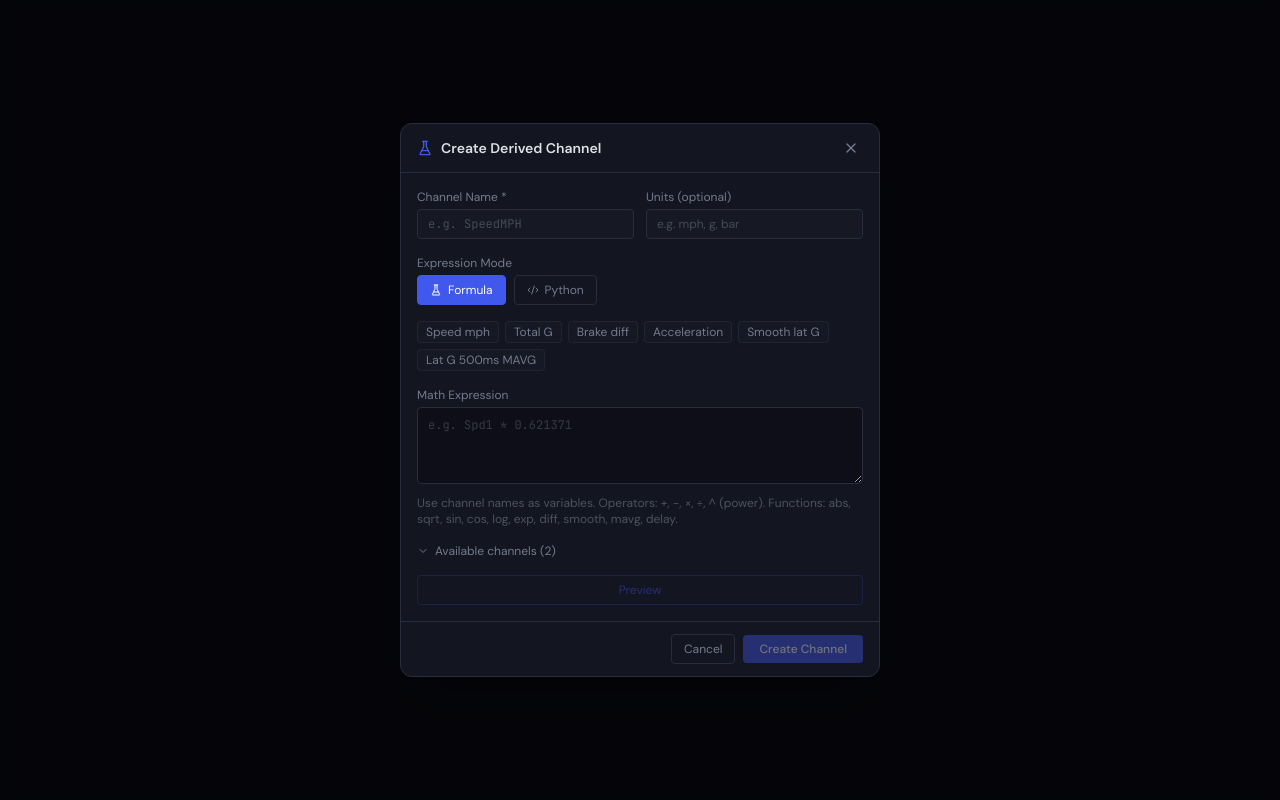
Test case: DerivedChannelDialog › lists only channels with file data and inserts them into the expression
Click the button "Available channels (2)": (486, 551) [417,543,556,559]
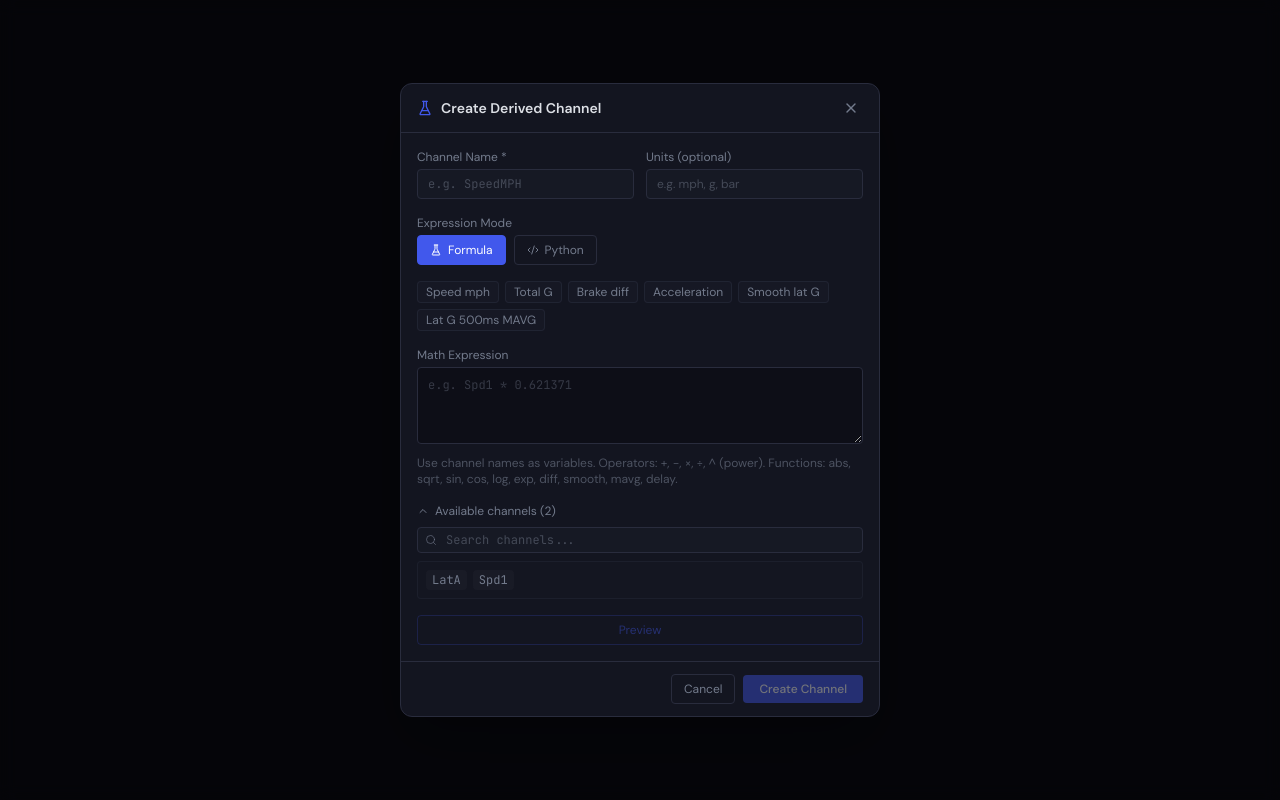
Click the button "Spd1": (493, 580) [473,570,514,590]
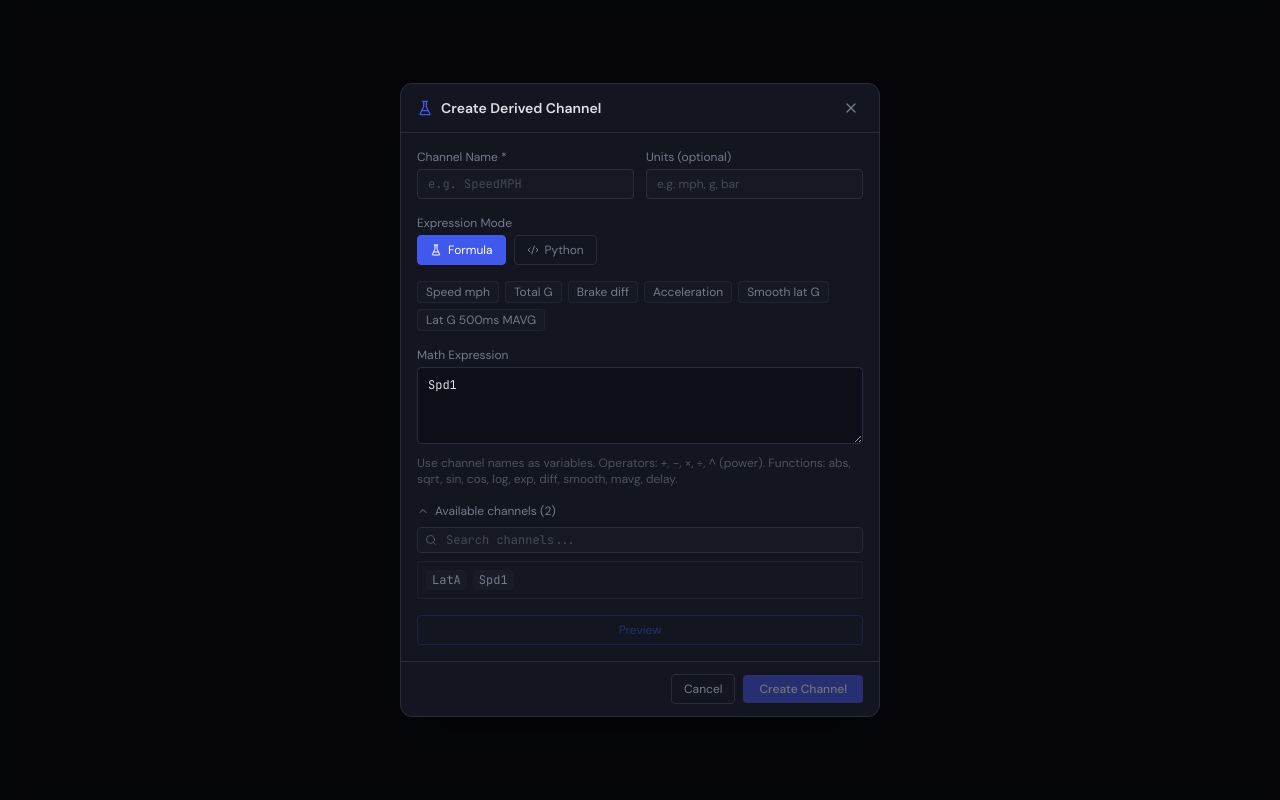
Click the button "LatA": (446, 580) [426,570,467,590]
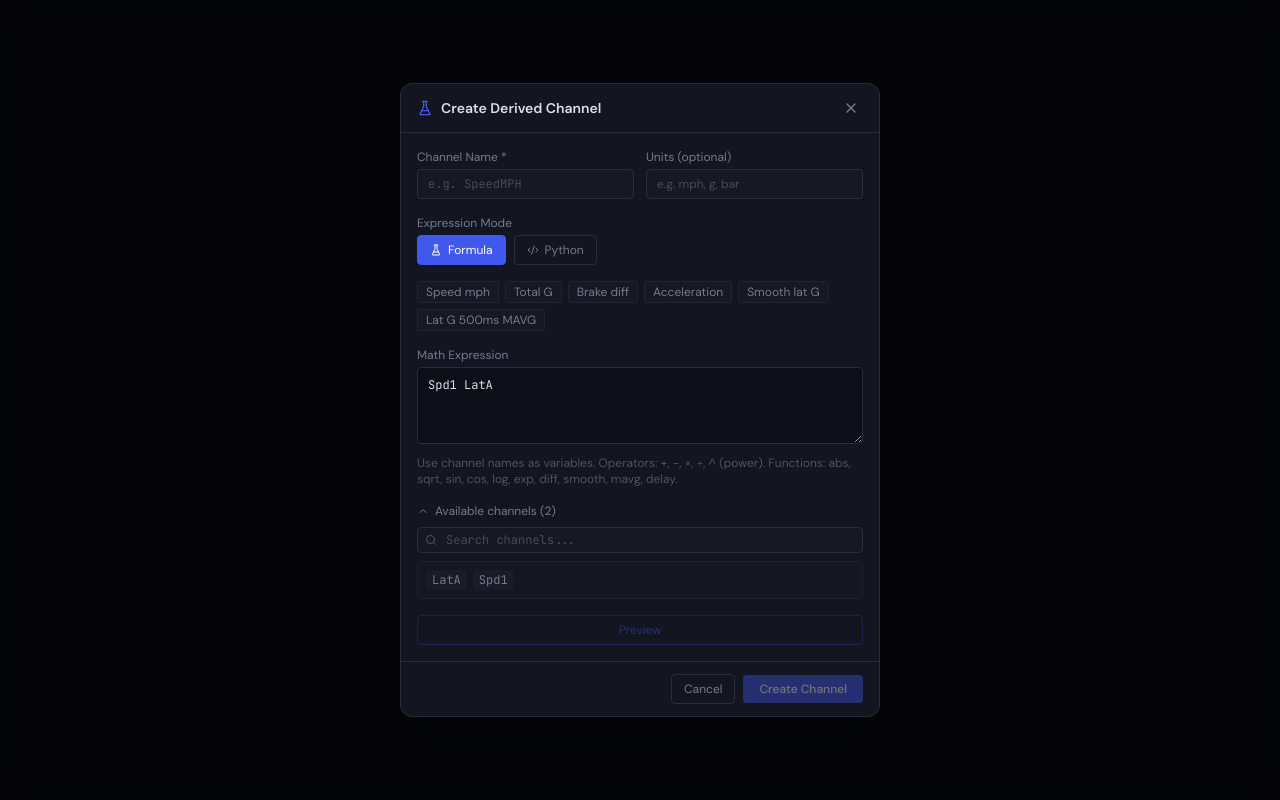
expect the text box with test id "textarea-expression" holds "Spd1 LatA": met, box [417,367,863,444]
In the field with test id "input-channel-search": (640, 540) [417,527,863,553], type "lat"
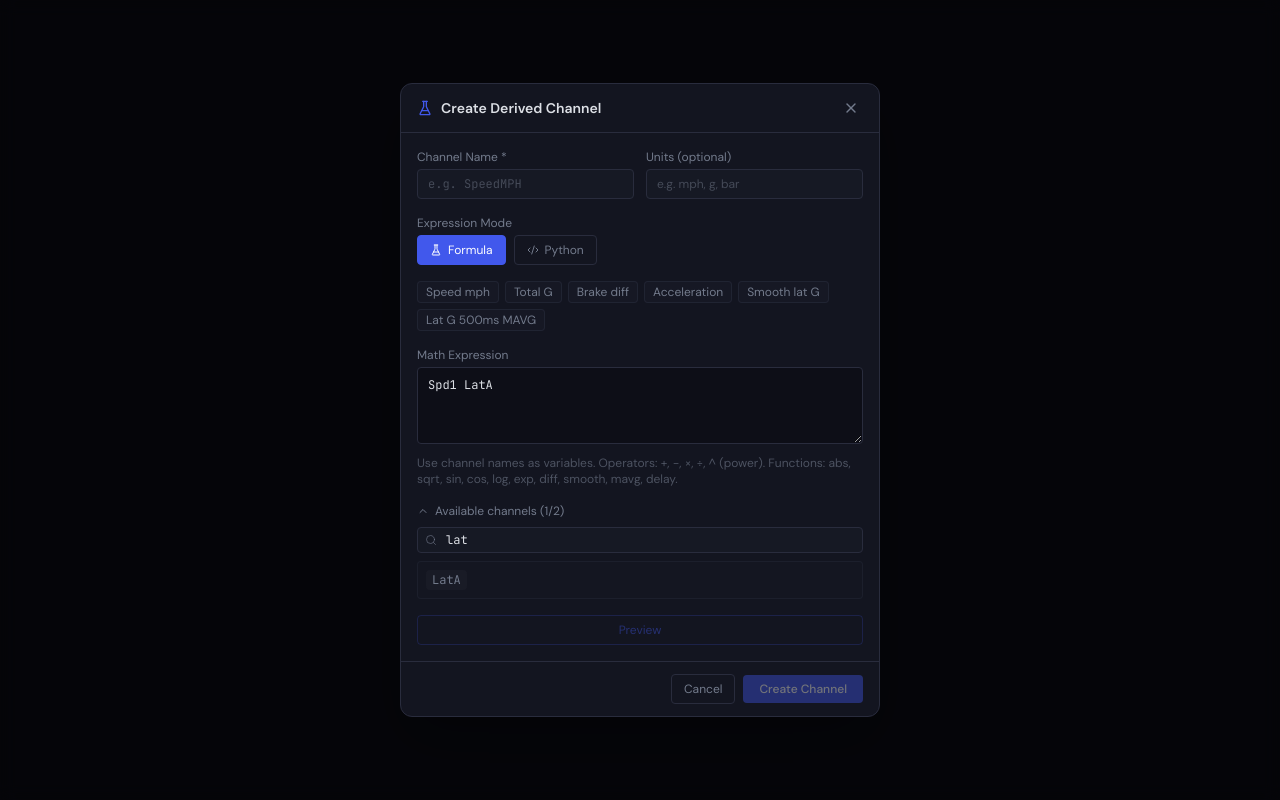
expect the button "Available channels (1/2)" is shown: met, box [417,503,564,519]
Replace the text in the field with test id "input-channel-search" with "zzz": (640, 540) [417,527,863,553]
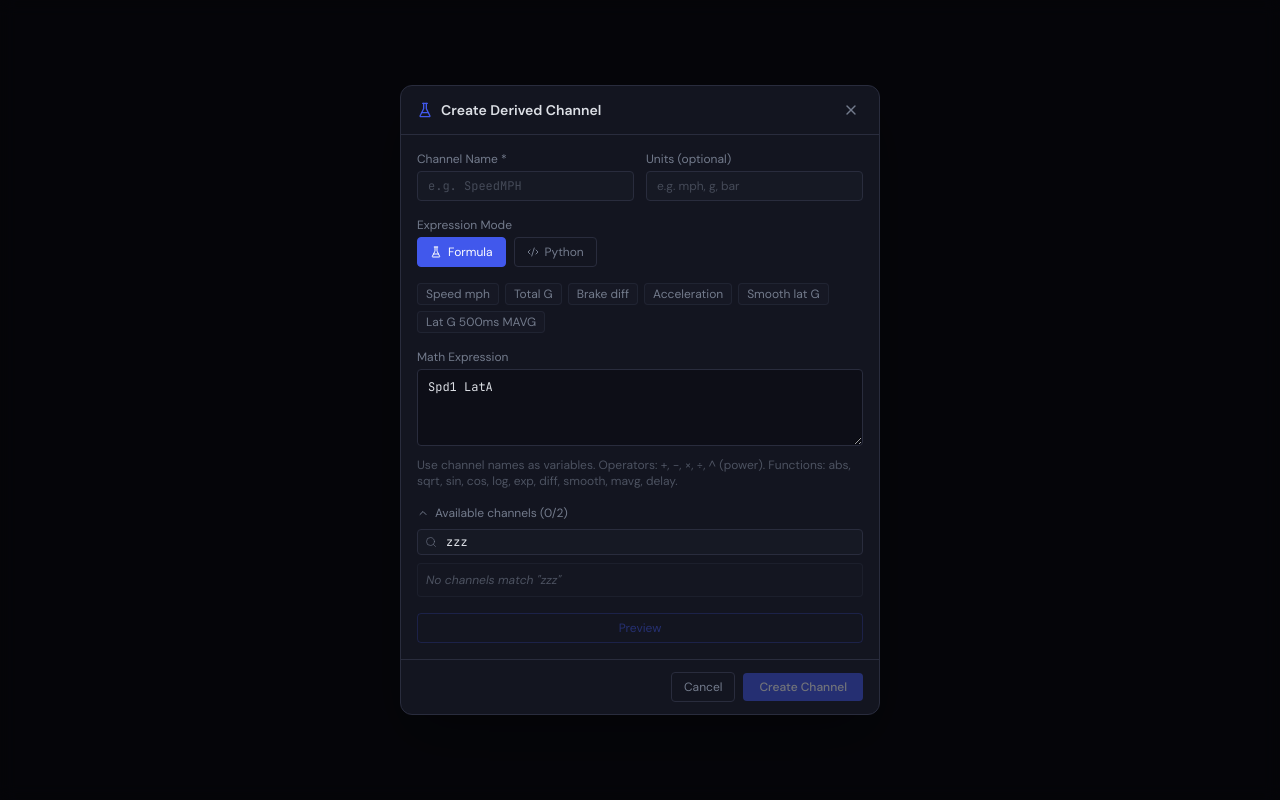
expect the text "No channels match \"zzz\"" is shown: met, box [426,572,561,588]
